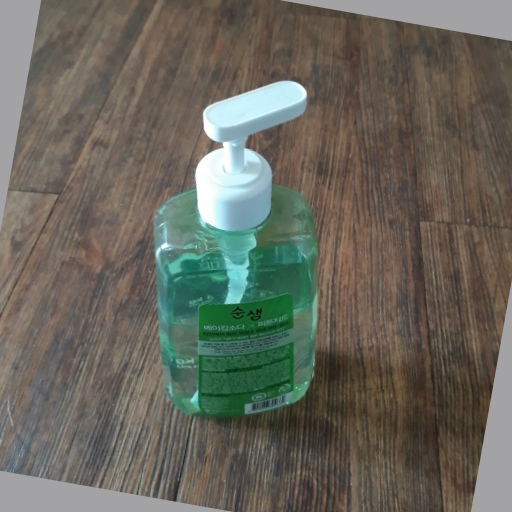Plastic_3: (156, 82, 320, 418)
